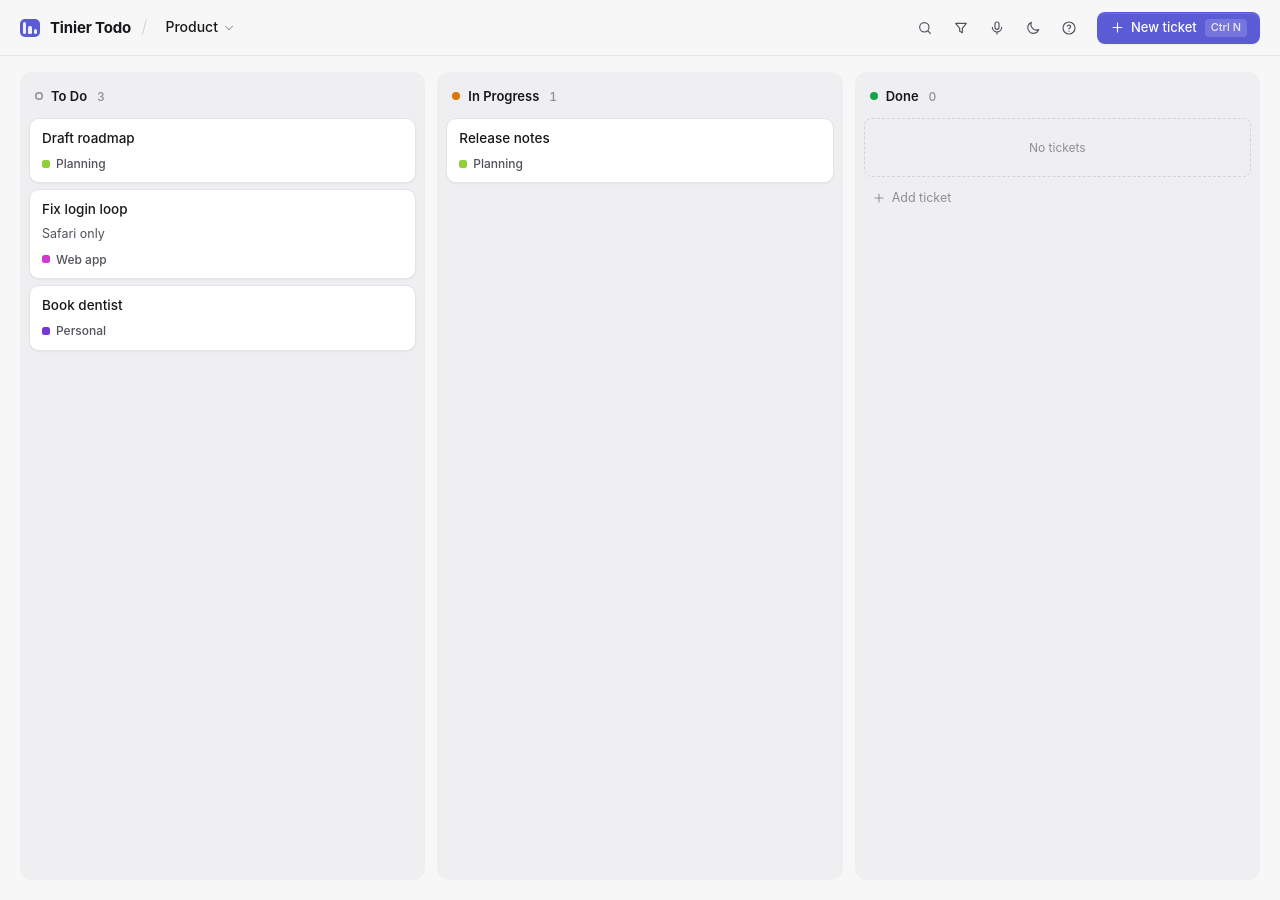
Test: App › keeps an unsaved new ticket as a draft and restores it
The image size is (1280, 900).
Check: the text "Draft roadmap" is shown, box left=42, top=130, right=135, bottom=146
Click the button "New ticket Ctrl N". click: point(1178, 28)
box: left=1097, top=12, right=1260, bottom=44
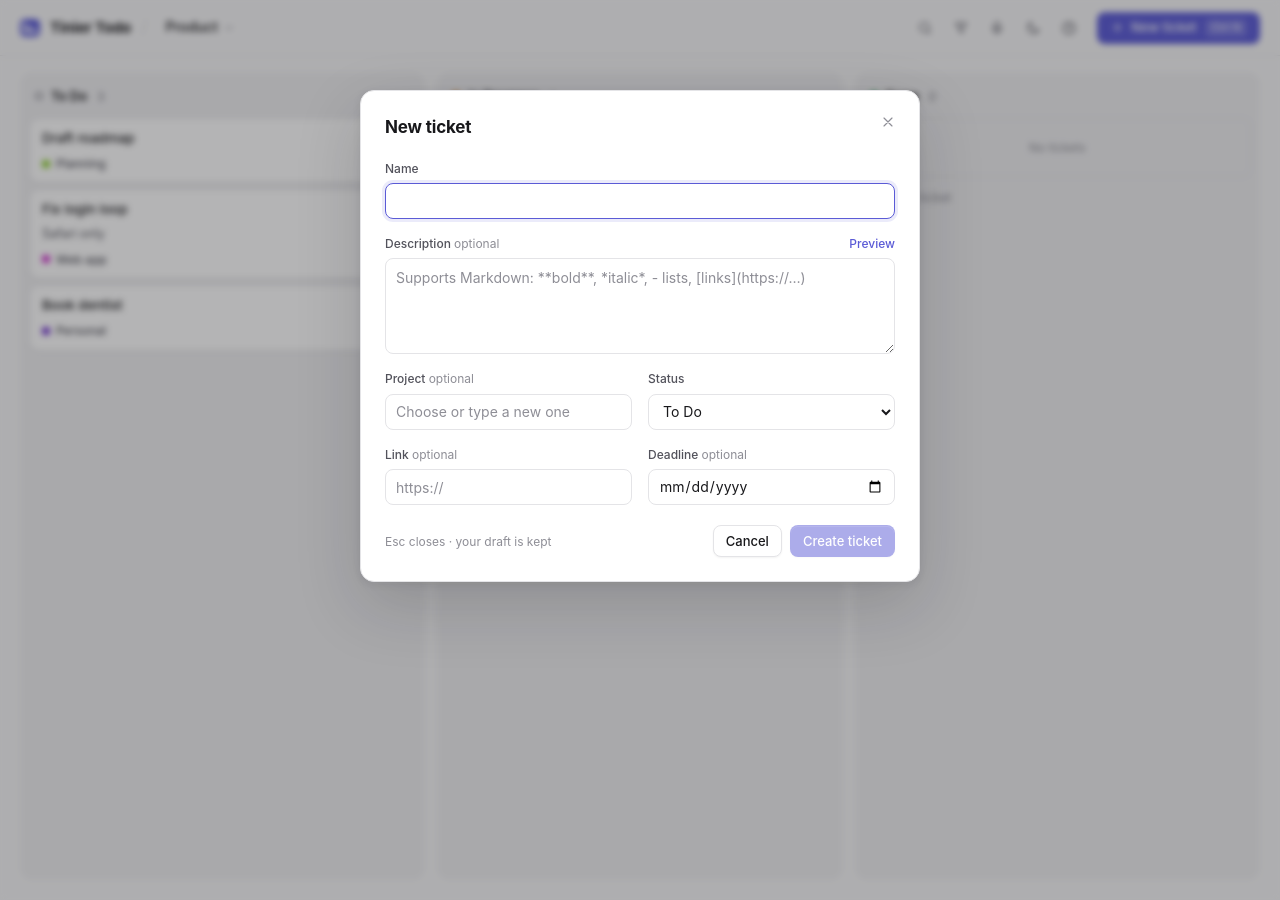
Type "Half an idea" into the field labelled "Name". click: point(640, 201)
box: left=385, top=183, right=895, bottom=219
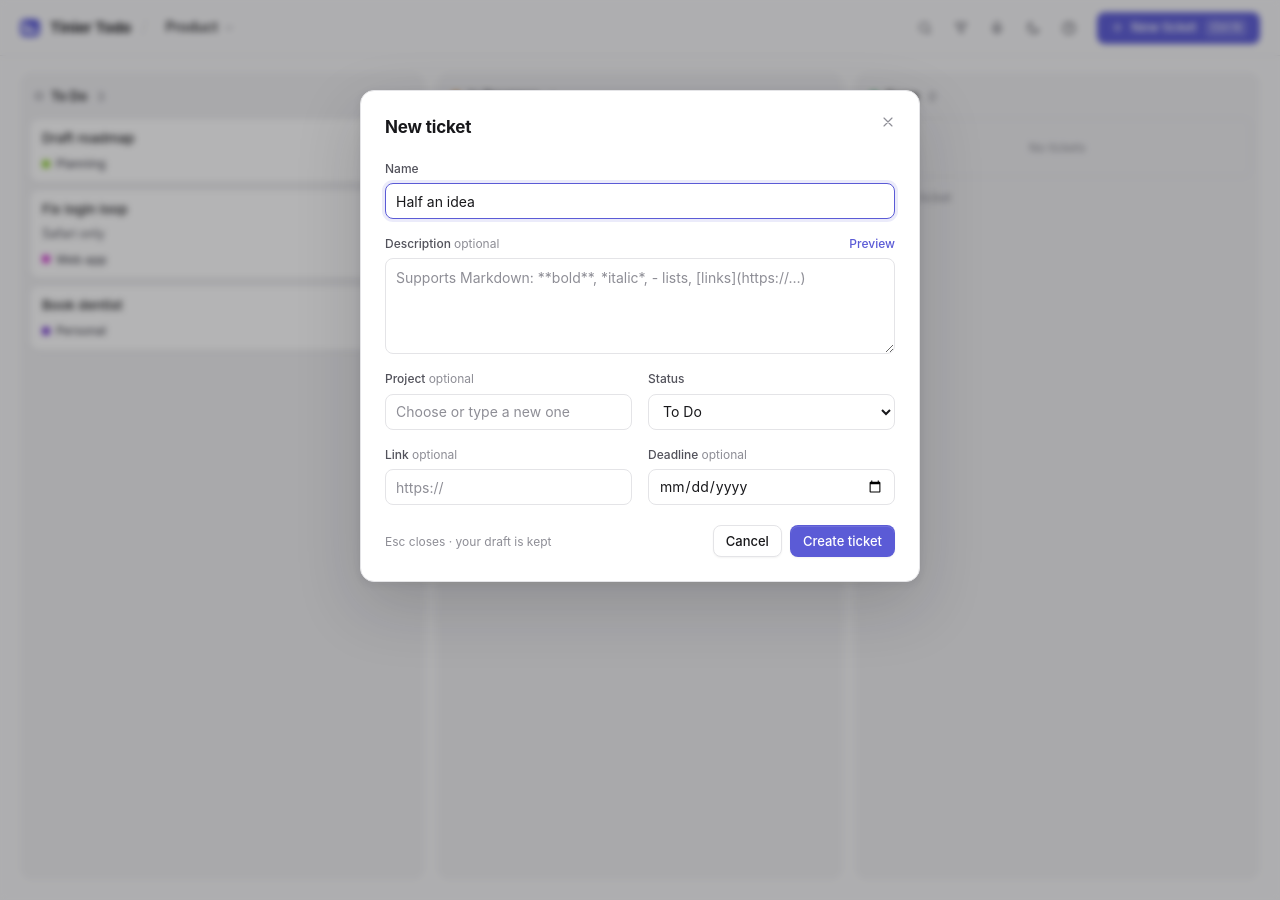
Press Escape
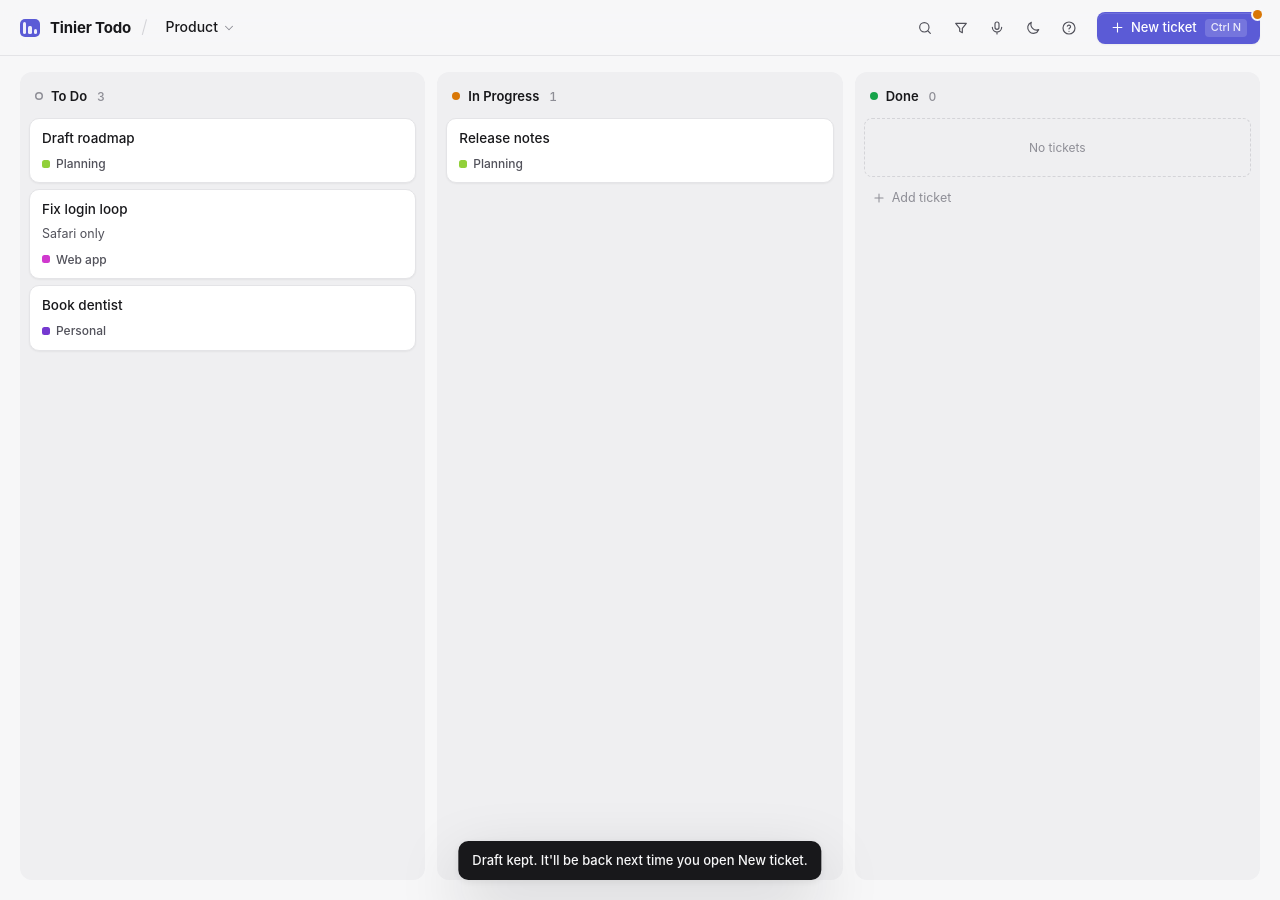
Check: the label labelled "Name" is gone
Click the button "New ticket Ctrl N". click: point(1178, 28)
box: left=1097, top=12, right=1260, bottom=44
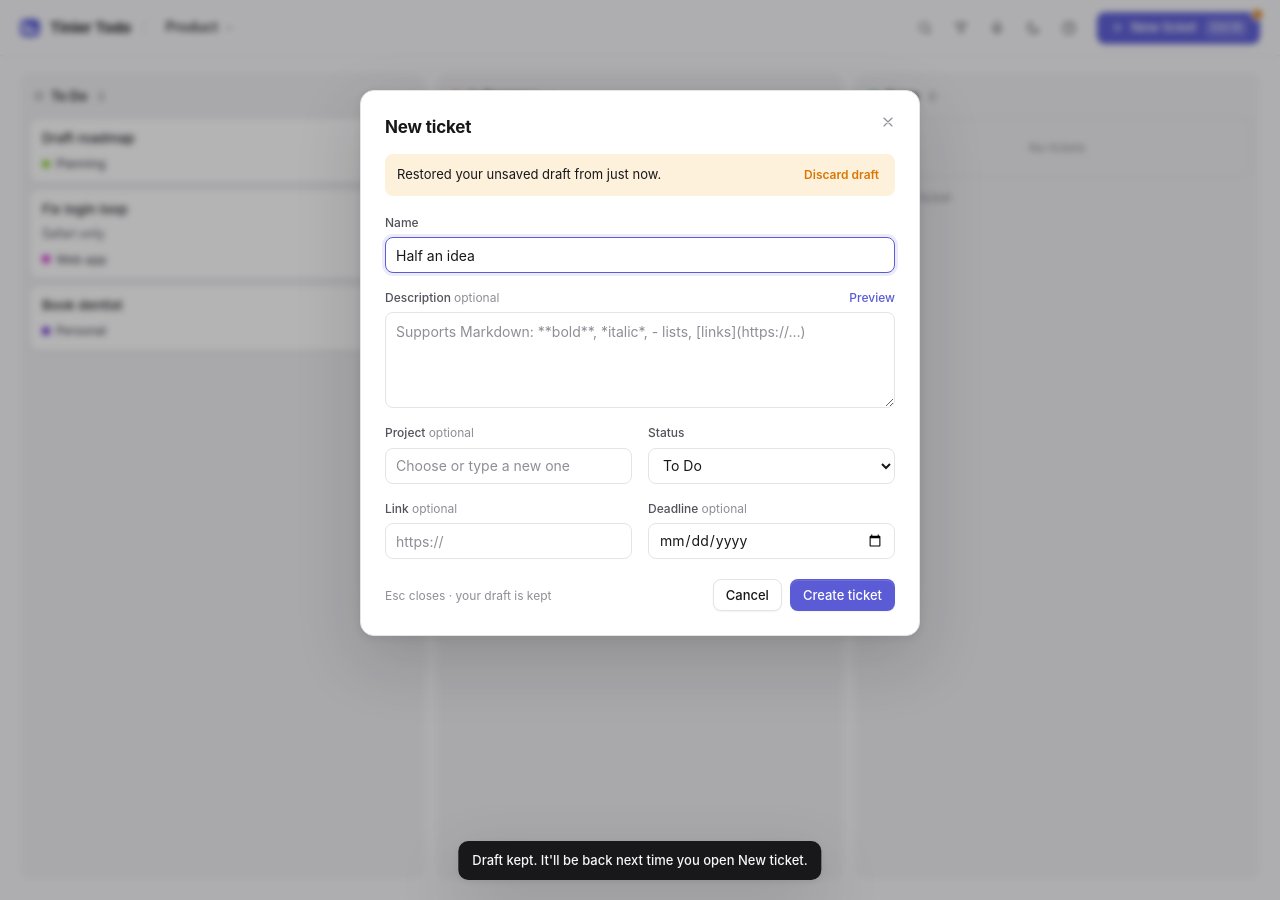
Check: the field showing "Half an idea" is shown, box left=385, top=237, right=895, bottom=273
Check: the text "Restored your unsaved draft from just now." is shown, box left=397, top=165, right=661, bottom=184
